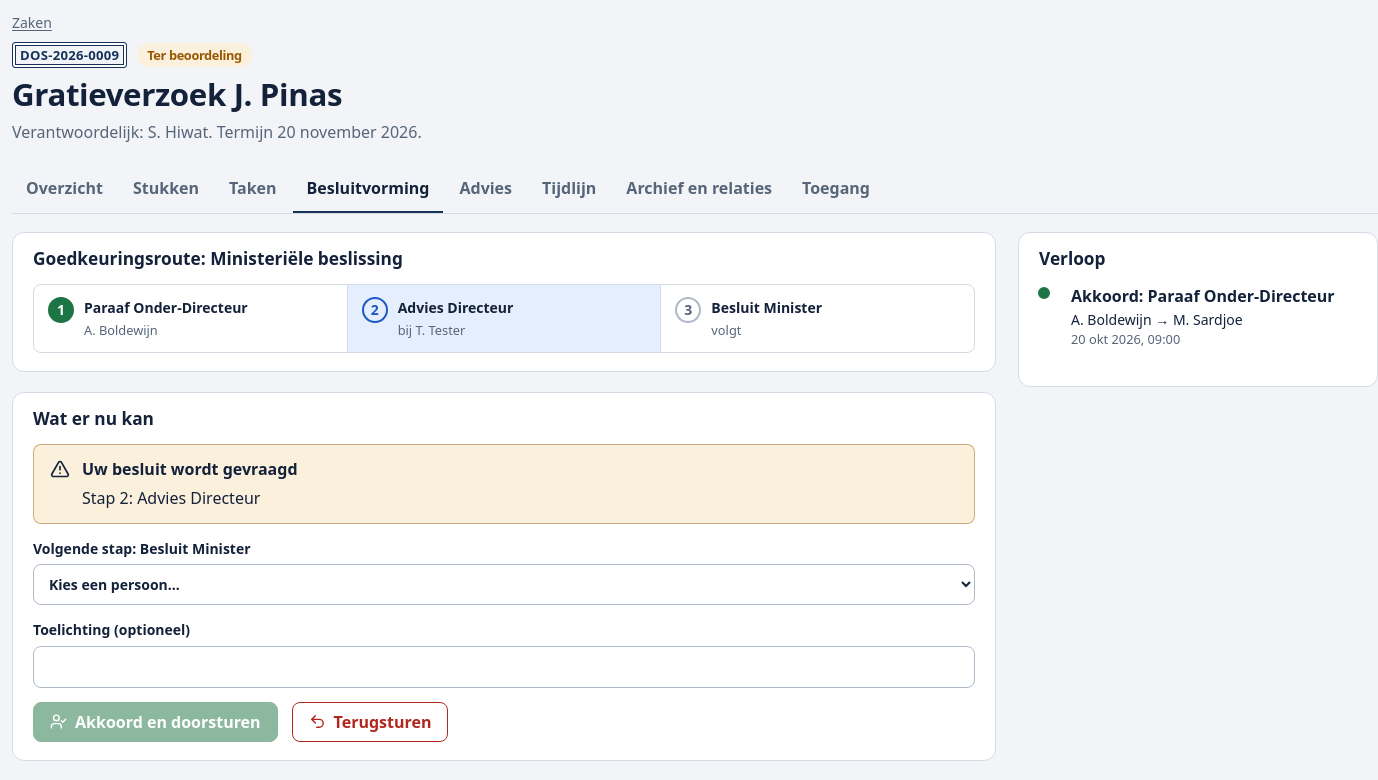
Scenario: Matter decision controls › offers Approve and Return to the reviewer whose step it is, and only after a next reviewer is chosen
Expected: the button with test id "approve" reads "Akkoord en doorsturen", [33,702,278,742]
Expected: the button with test id "approve" is disabled, [33,702,278,742]
Select "R. Dijkstra — Minister" in the dropdown labelled "Volgende stap: Besluit Minister" at (504, 585), box [33,564,975,605]
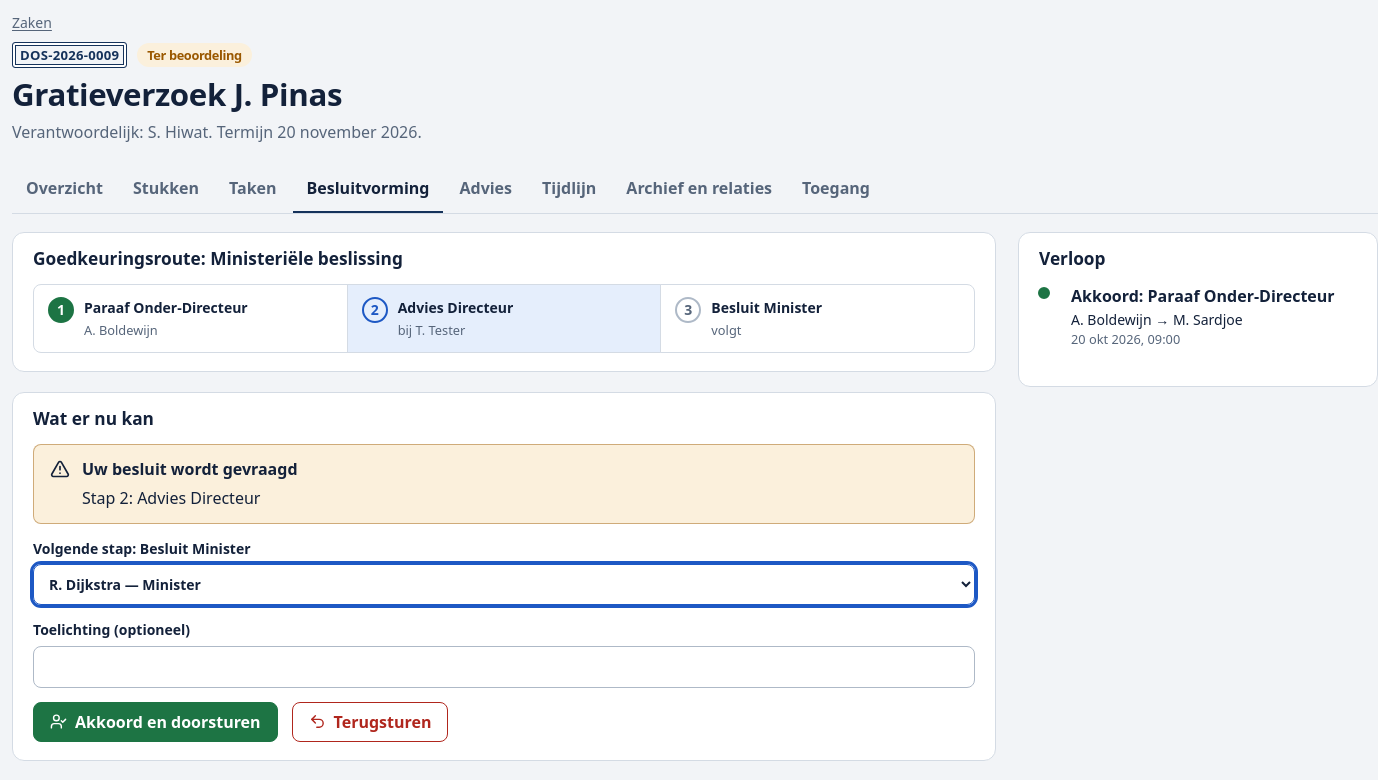
Result: the button with test id "approve" is enabled at [33,702,278,742]
